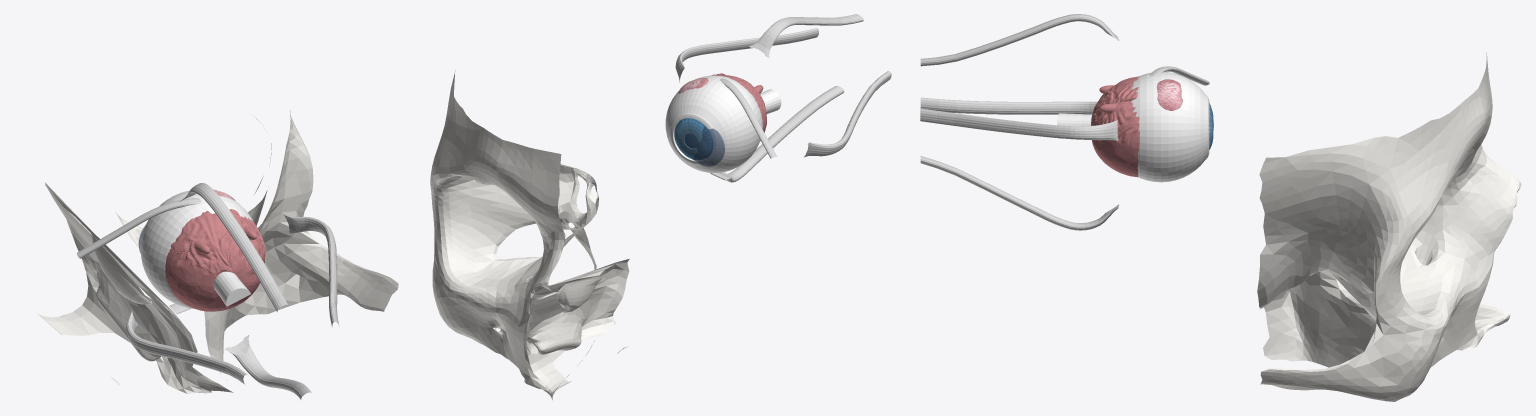
File: asset.gltf
3 views of the same model, side by side, from view 1: azimuth 30°, elevation 25°; view 2: azimuth 150°, elevation 25°; view 3: azimuth 270°, elevation 25° (orthographic). The views are drawn at different scales.
Visible parts, largest first — view 1: SighSkul, SighCoro, SighEsc2, SighTe01, SighTe03, SighTe05, SighTe04, SighTe02; view 2: SighSkul, SighEsc2, SighTe04, SighTe05, SighEsc1, SighTe01, SighTe03, SighCorn, SighConj, SighTe02, SighCoro; view 3: SighSkul, SighEsc2, SighEsc1, SighCoro, SighTe05, SighTe03, SighTe01, SighTe04, SighSkin.
Part boxes in pixels (x1=…): SighSkul: x1=37, y1=110, x2=398, y2=393; SighCoro: x1=165, y1=209, x2=265, y2=311; SighEsc2: x1=140, y1=190, x2=253, y2=306; SighTe01: x1=179, y1=183, x2=287, y2=311; SighTe03: x1=126, y1=307, x2=247, y2=384; SighTe05: x1=284, y1=215, x2=339, y2=326; SighTe04: x1=224, y1=335, x2=311, y2=400; SighTe02: x1=77, y1=198, x2=201, y2=258; SighSkul: x1=430, y1=70, x2=629, y2=400; SighEsc2: x1=668, y1=75, x2=781, y2=155; SighTe04: x1=720, y1=86, x2=844, y2=182; SighTe05: x1=675, y1=28, x2=818, y2=82; SighEsc1: x1=665, y1=107, x2=780, y2=172; SighTe01: x1=749, y1=14, x2=863, y2=58; SighTe03: x1=804, y1=71, x2=891, y2=157; SighCorn: x1=674, y1=118, x2=712, y2=159; SighConj: x1=684, y1=125, x2=724, y2=166; SighTe02: x1=720, y1=78, x2=777, y2=158; SighCoro: x1=679, y1=73, x2=766, y2=141; SighSkul: x1=1257, y1=52, x2=1521, y2=401; SighEsc2: x1=1057, y1=72, x2=1209, y2=129; SighEsc1: x1=1059, y1=128, x2=1209, y2=182; SighCoro: x1=1091, y1=76, x2=1139, y2=177; SighTe05: x1=920, y1=108, x2=1118, y2=141; SighTe03: x1=920, y1=97, x2=1097, y2=114; SighTe01: x1=920, y1=14, x2=1119, y2=66; SighTe04: x1=920, y1=156, x2=1119, y2=230; SighSkin: x1=1156, y1=79, x2=1182, y2=110.
Bounding box in the file's own units: 7595 × 6144 × 11617.
16 materials, 2 textured.
